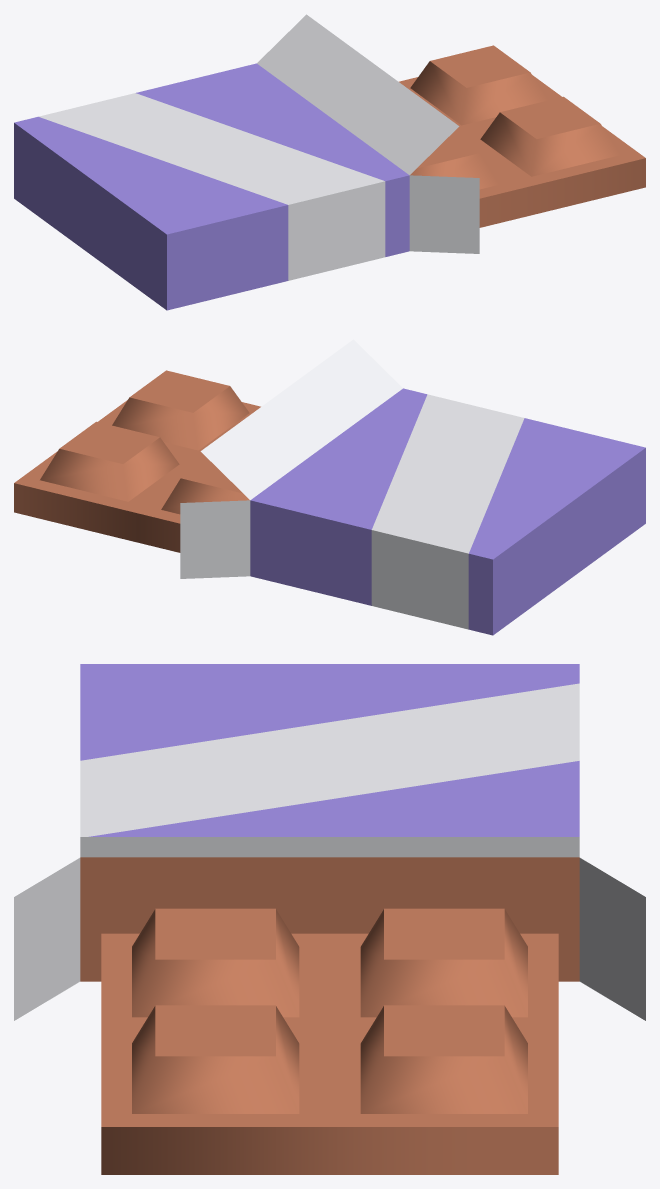
Rendered from chocolateWrapper.obj.
The picture shows the model from 3 angles, top to bottom: view 1: azimuth 30°, elevation 25°; view 2: azimuth 150°, elevation 25°; view 3: azimuth 270°, elevation 25°; orthographic projection. The views are drawn at different scales.
Visible parts, largest first — view 1: chocolateWrapper; view 2: chocolateWrapper; view 3: chocolateWrapper.
Part boxes in pixels (x1,y1,x2,y2): chocolateWrapper: (14, 14, 645, 310); chocolateWrapper: (14, 339, 645, 635); chocolateWrapper: (14, 664, 645, 1174).
Bounding box in the file's own units: 0.2924 × 0.0649 × 0.202.
